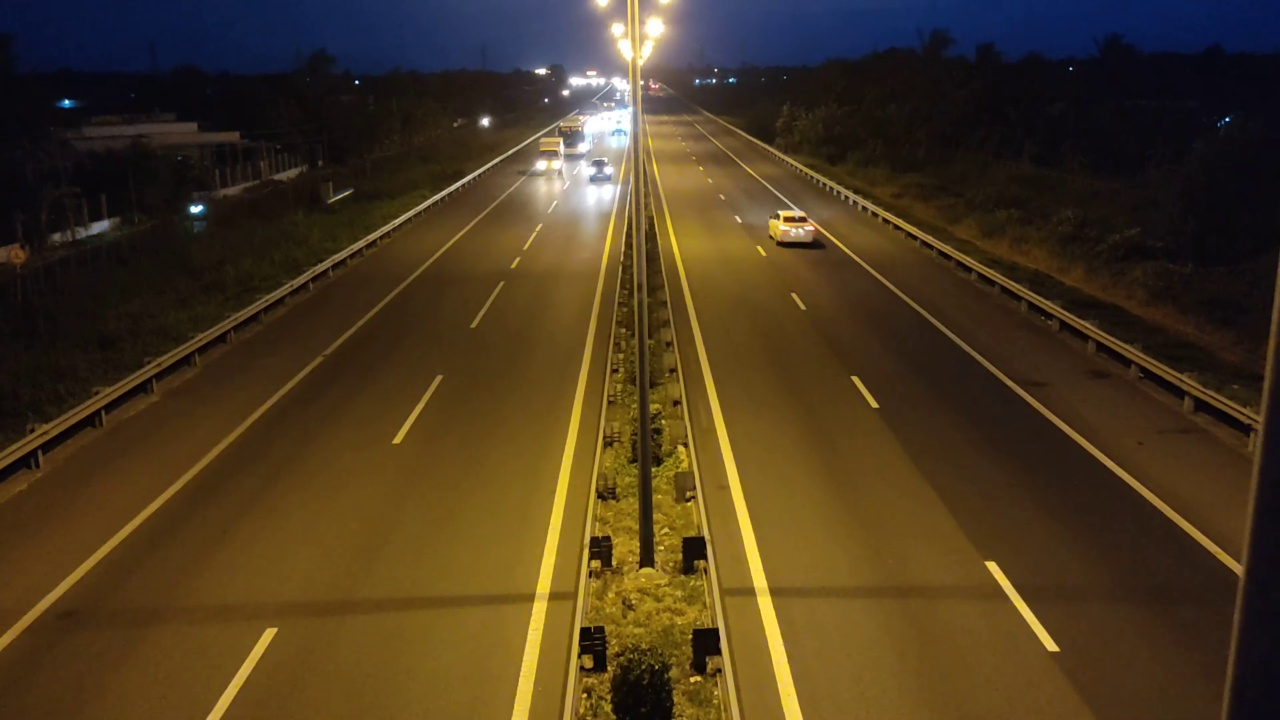car: (767, 209, 821, 245), (587, 157, 615, 184)
